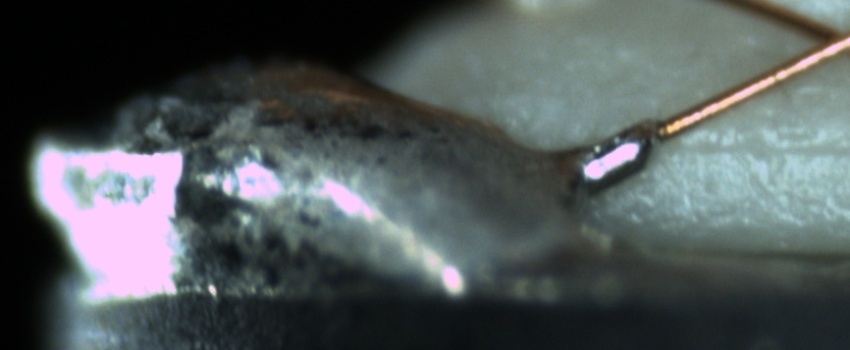CL: (789, 7, 849, 66)
DL: (676, 118, 850, 177)
TB: (567, 120, 658, 198)
TTCW: (569, 99, 730, 187)
